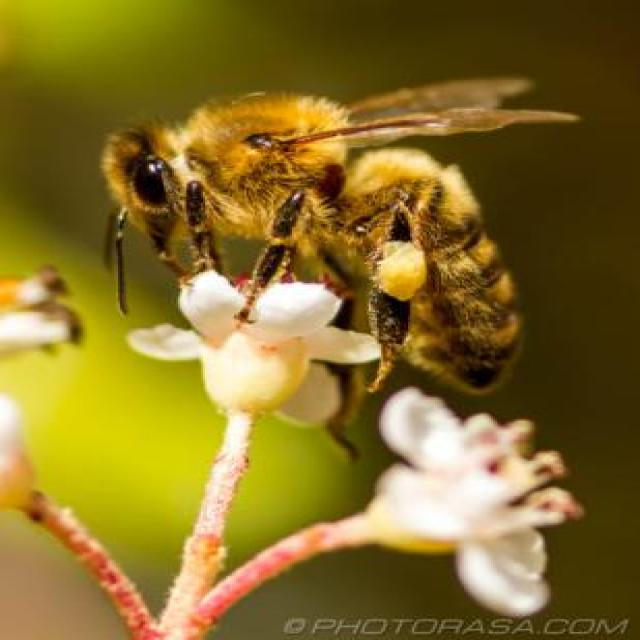antennae: (116, 205, 130, 323), (104, 205, 116, 275)
body: (99, 93, 528, 400)
insect: (96, 73, 581, 466)
legs: (355, 210, 434, 392), (236, 187, 320, 314), (185, 178, 221, 274)
mouthpart: (130, 206, 189, 280)
wings: (286, 109, 577, 158), (348, 75, 533, 123)
